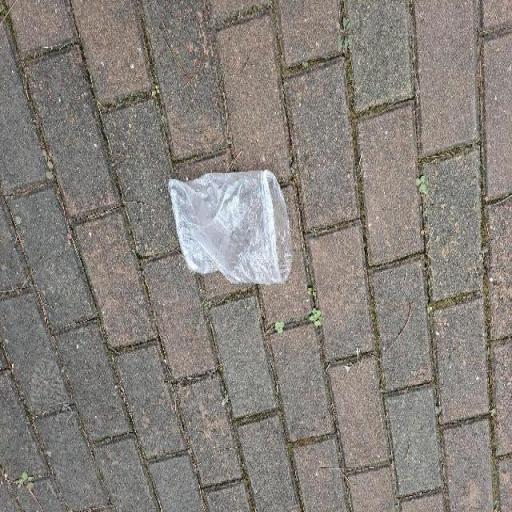plastic-bag: (167, 168, 292, 288)
